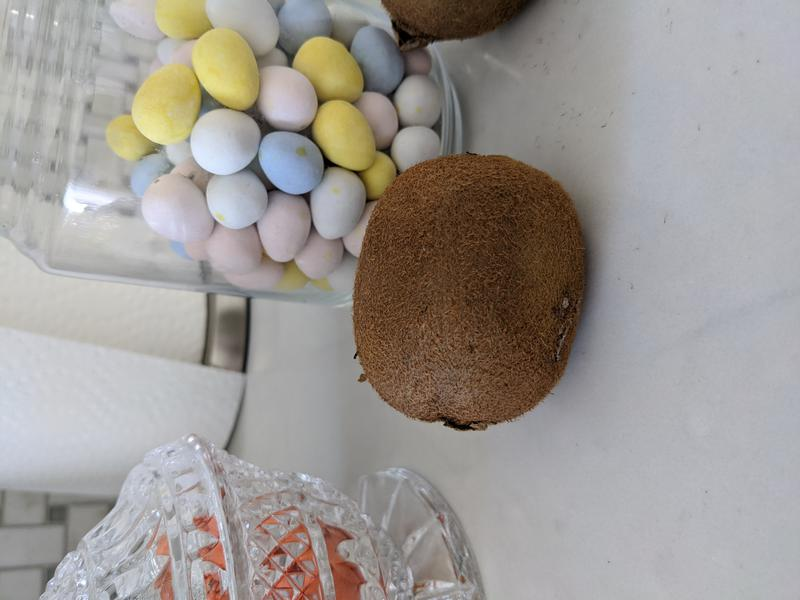kiwi: (352, 153, 589, 427)
